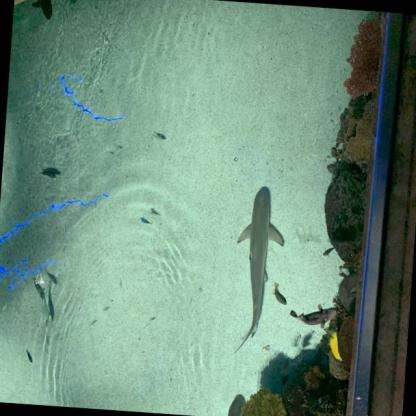fish: (288, 300, 338, 330), (271, 280, 289, 306), (30, 276, 47, 300), (39, 298, 50, 328), (43, 267, 58, 285), (40, 169, 58, 180), (138, 214, 154, 226), (322, 245, 336, 258), (24, 348, 34, 363), (150, 132, 163, 142), (89, 318, 98, 326), (116, 144, 124, 150), (118, 278, 121, 288)
shark: (227, 183, 289, 360)
